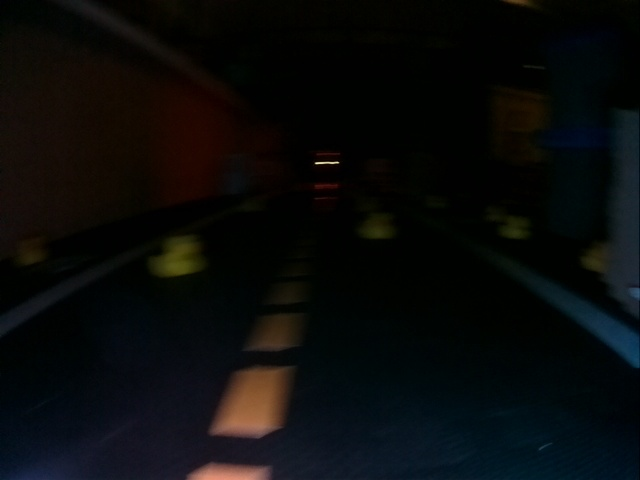Duckie: (150, 236, 203, 274), (363, 213, 394, 240), (583, 241, 607, 273), (15, 238, 44, 264), (502, 216, 530, 240), (488, 205, 504, 221)
